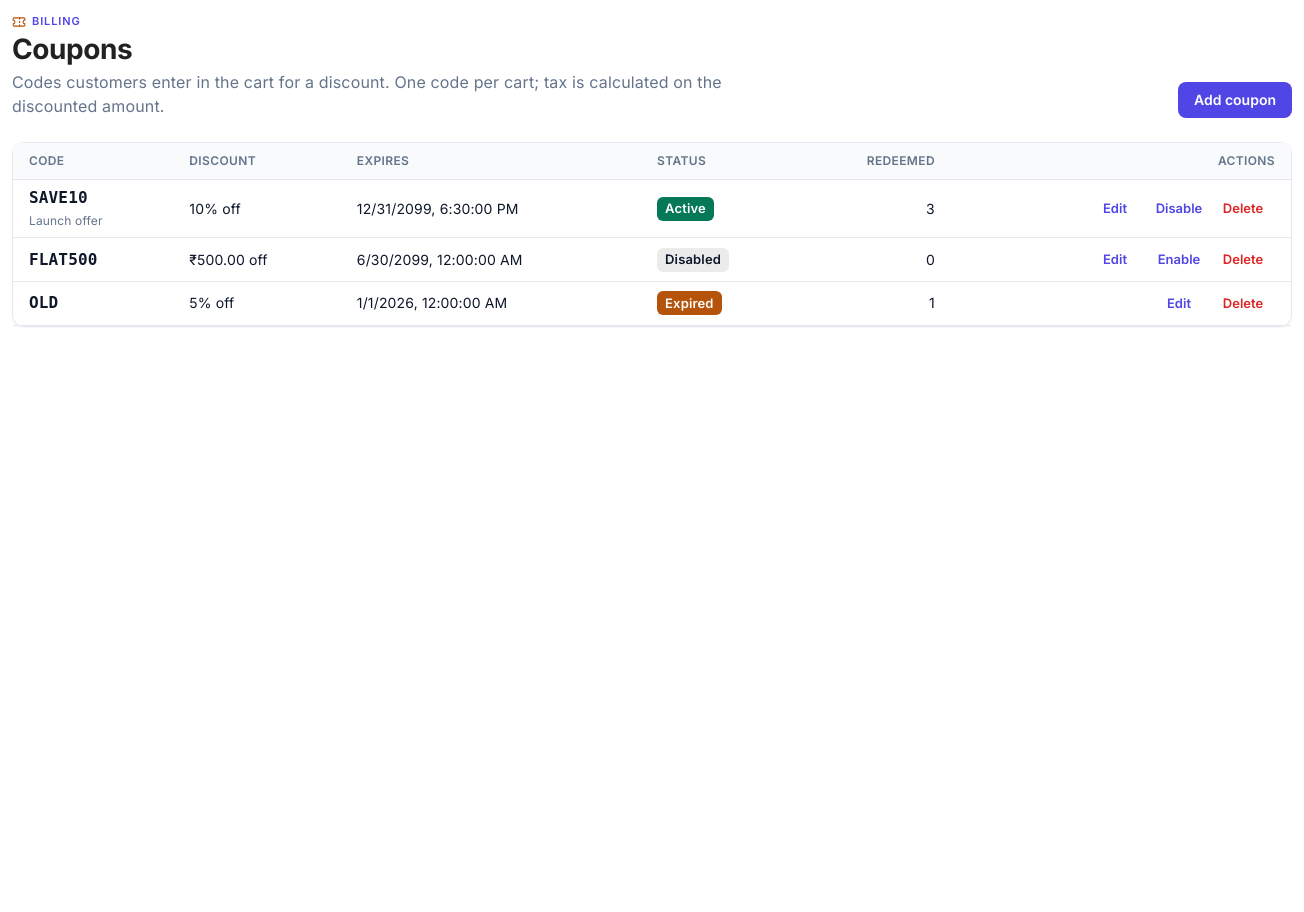
Test case: AdminCouponsPage (C100) › disables an active coupon and enables a disabled one
Click the button with aria-label "Disable SAVE10".
click(1179, 209)  # box x1=1147 y1=194 x2=1211 y2=224
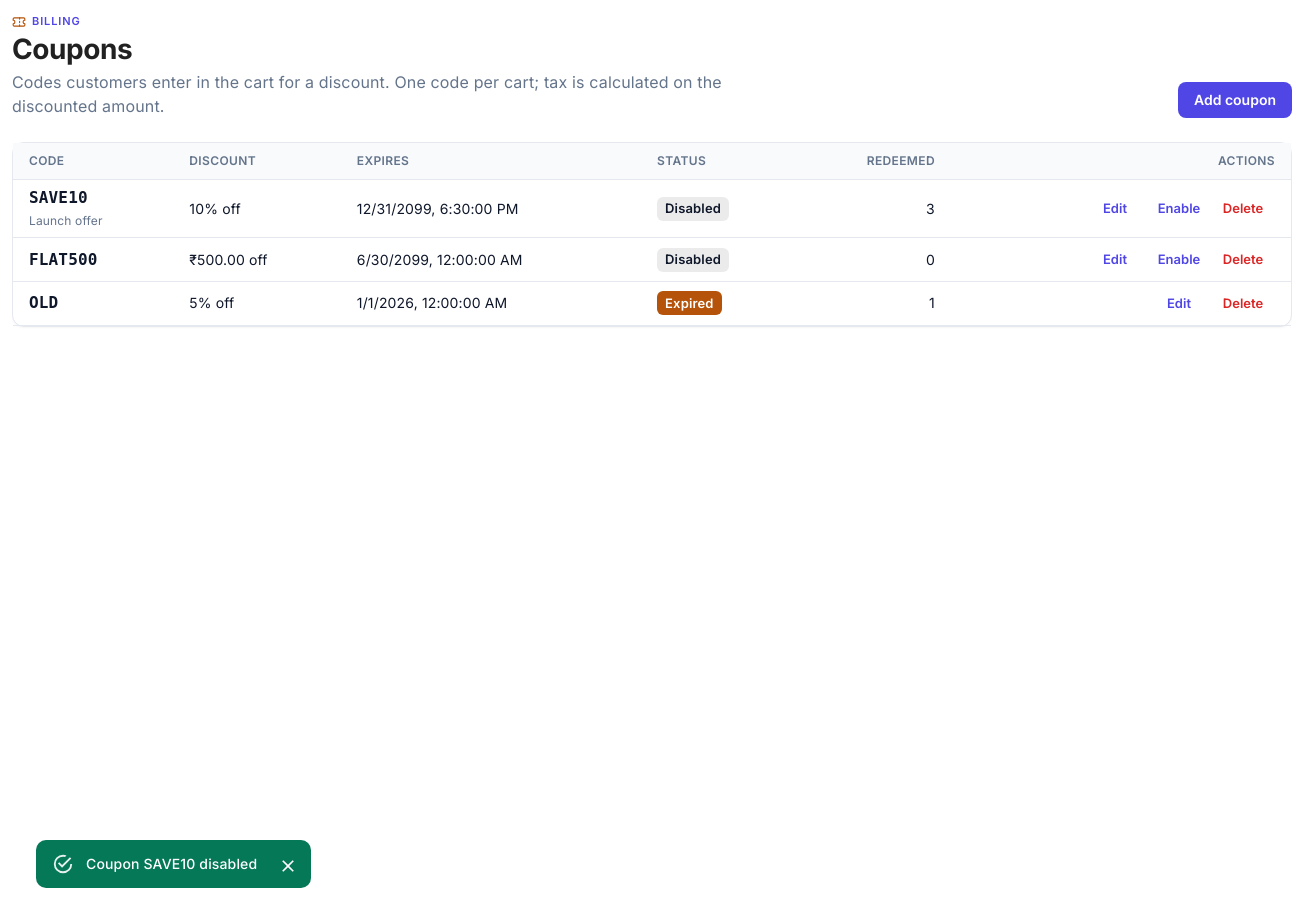
Expected: the button with aria-label "Enable SAVE10" is shown, x1=1147 y1=194 x2=1211 y2=224
Expected: the text "Coupon SAVE10 disabled" is shown, x1=86 y1=855 x2=257 y2=872
Click the button with aria-label "Enable FLAT500".
click(1179, 260)  # box x1=1147 y1=244 x2=1211 y2=275
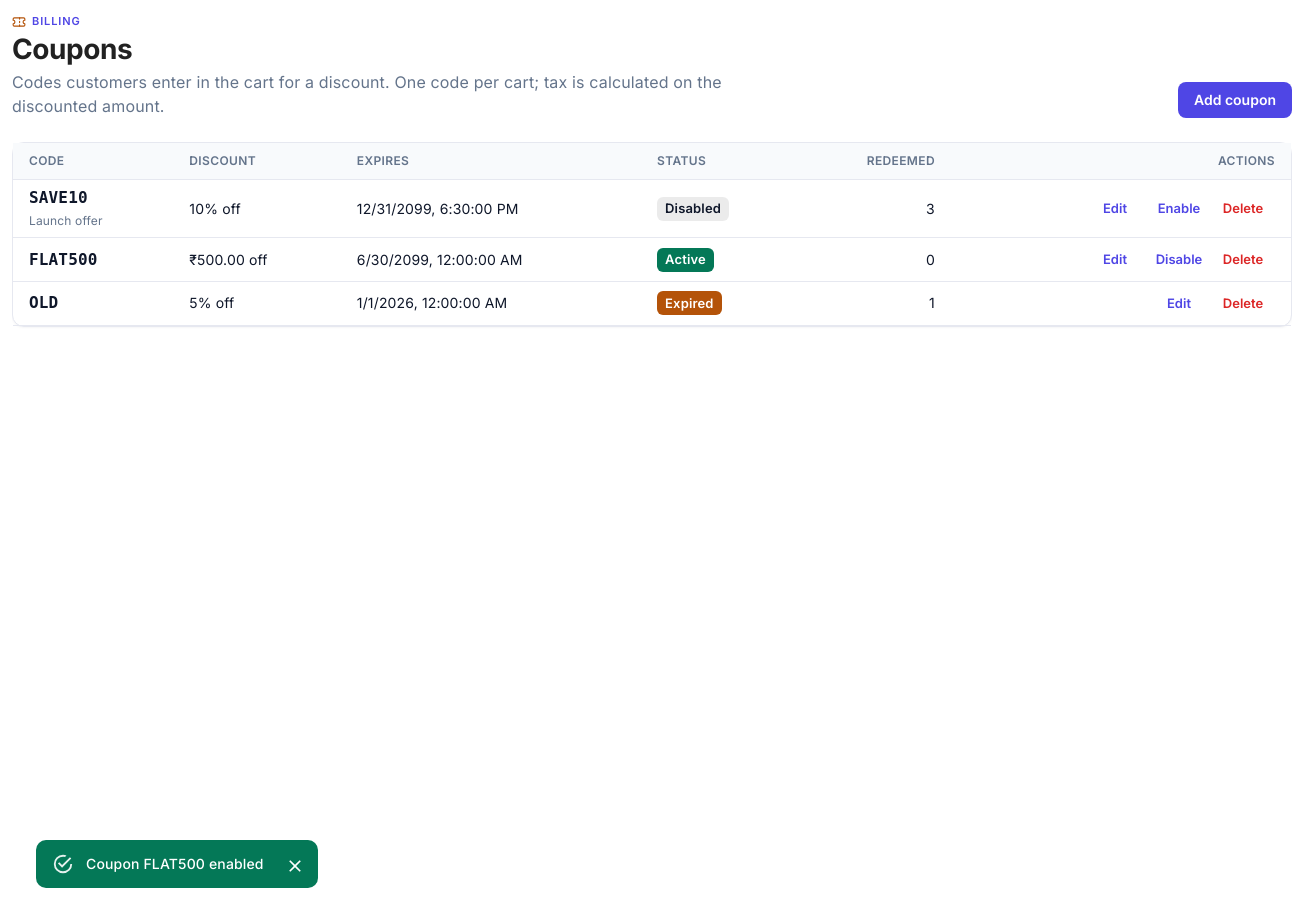
Expected: the button with aria-label "Disable FLAT500" is shown, x1=1147 y1=244 x2=1211 y2=275
